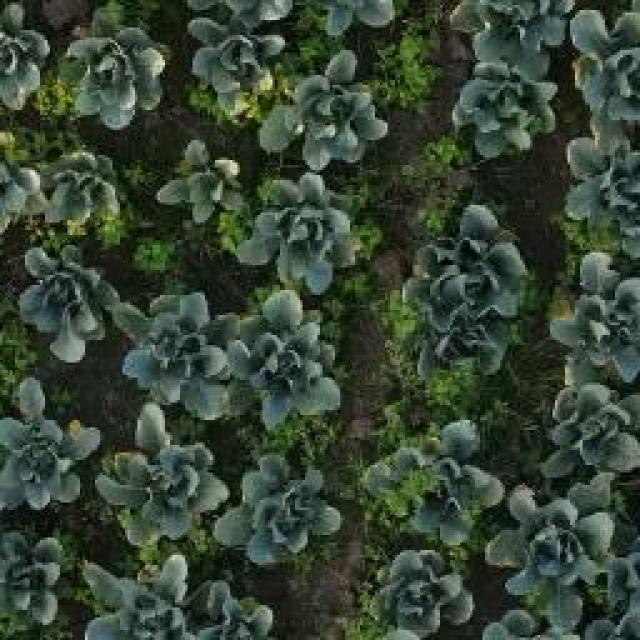cabbage: (499, 486, 617, 608), (99, 422, 219, 536), (230, 305, 339, 428), (215, 457, 327, 575), (58, 5, 168, 125), (0, 390, 103, 518), (383, 431, 495, 543), (248, 181, 358, 289), (124, 299, 234, 406), (22, 244, 121, 361), (412, 208, 523, 312), (453, 60, 556, 158), (188, 12, 288, 112), (286, 68, 392, 162), (551, 249, 640, 360), (551, 372, 640, 472), (78, 558, 186, 640), (368, 548, 470, 633), (161, 138, 248, 226), (567, 125, 640, 226), (35, 144, 125, 223), (570, 14, 640, 114), (408, 314, 514, 380), (0, 534, 66, 637), (448, 0, 566, 55)
